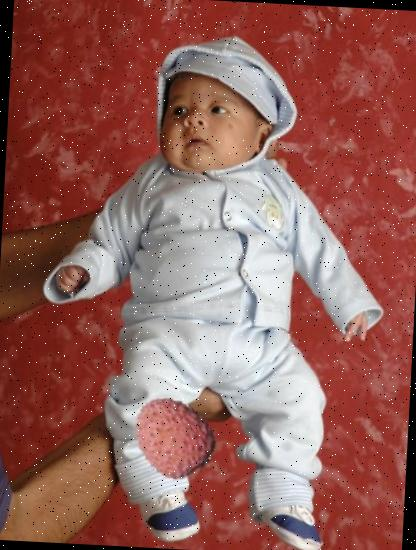Lychee: (128, 392, 218, 482)
